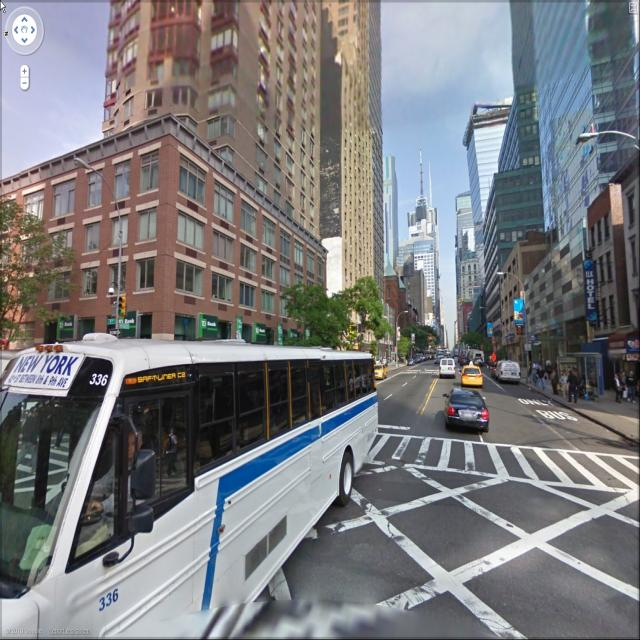b_1: (105, 1, 318, 205), (545, 2, 632, 233), (330, 1, 372, 284), (480, 152, 546, 329), (460, 83, 525, 229), (396, 183, 448, 333), (496, 229, 553, 347), (368, 8, 390, 278), (460, 170, 485, 336)
b_2: (12, 175, 390, 384)
